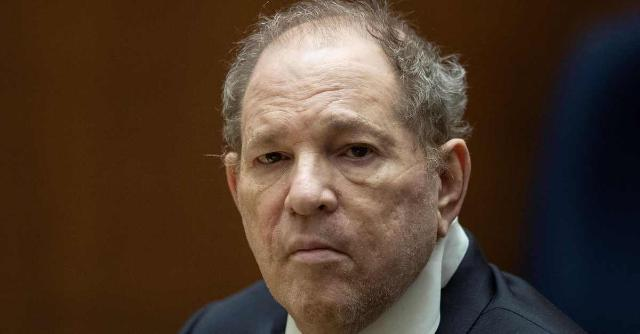bunny_line: (334, 167, 368, 189)
forehead: (295, 79, 337, 101)
